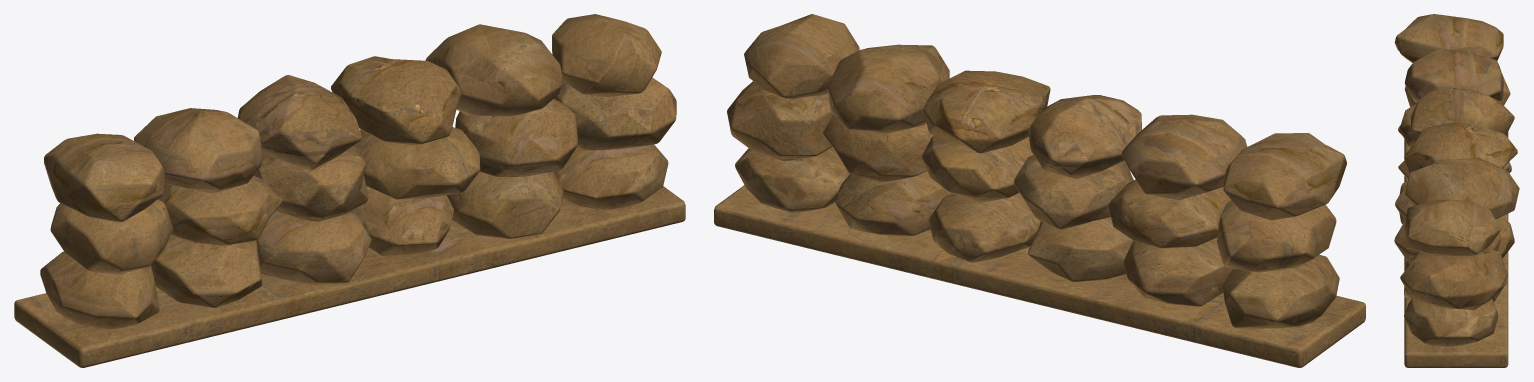
The model's file is garden_wall.glb.
The picture shows the model from 3 angles, left to right: view 1: azimuth 30°, elevation 25°; view 2: azimuth 150°, elevation 25°; view 3: azimuth 270°, elevation 25°; orthographic projection. The views are drawn at different scales.
Parts seen in each view (by area): view 1: LimestoneSurface; view 2: LimestoneSurface; view 3: LimestoneSurface.
Part boxes in pixels (x1=…): LimestoneSurface: x1=14, y1=14, x2=685, y2=367; LimestoneSurface: x1=714, y1=14, x2=1365, y2=367; LimestoneSurface: x1=1394, y1=14, x2=1519, y2=367.
Size of the model in its own units: 2.14 by 0.65 by 0.4936.
Materials: 1 (1 with a texture image).
